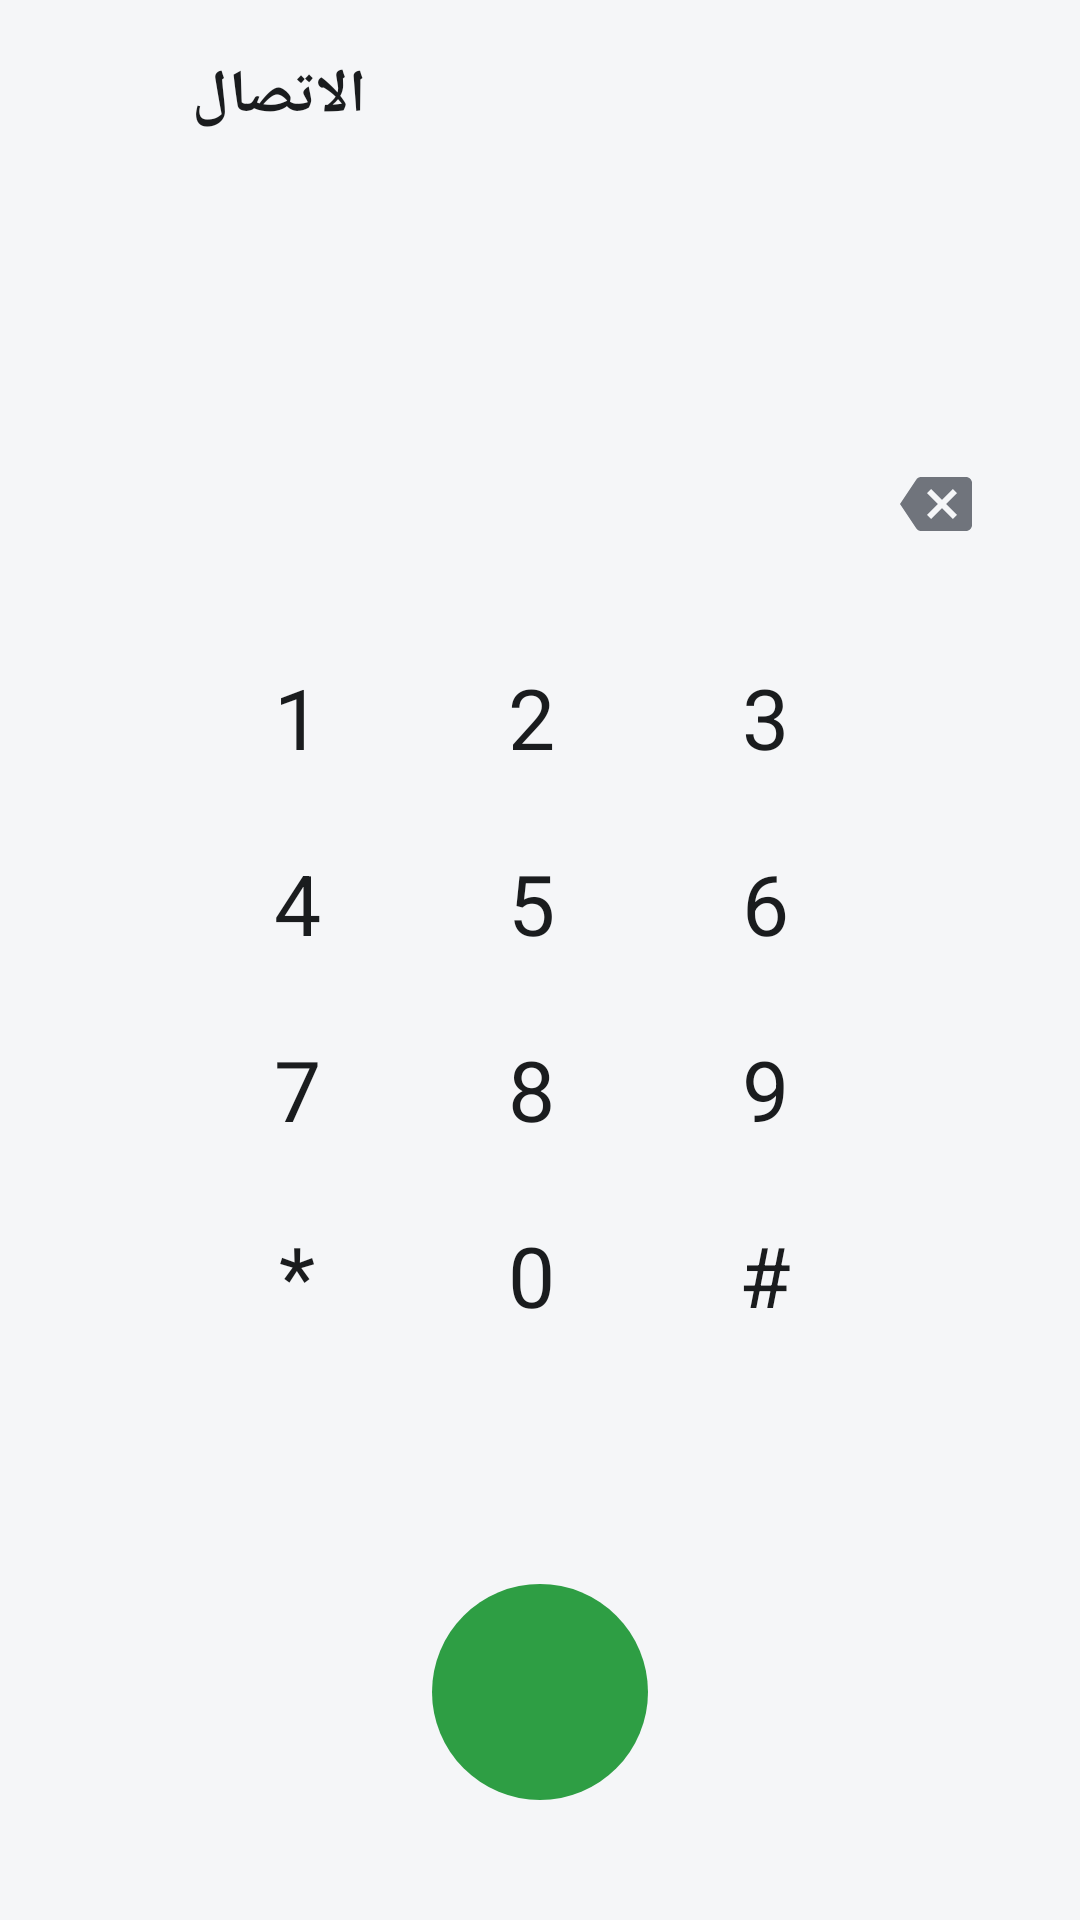

Screen size 1080x1920. Icon name, then its center in pixels as (x=x, y=y):
حذف: (x=936, y=504)
